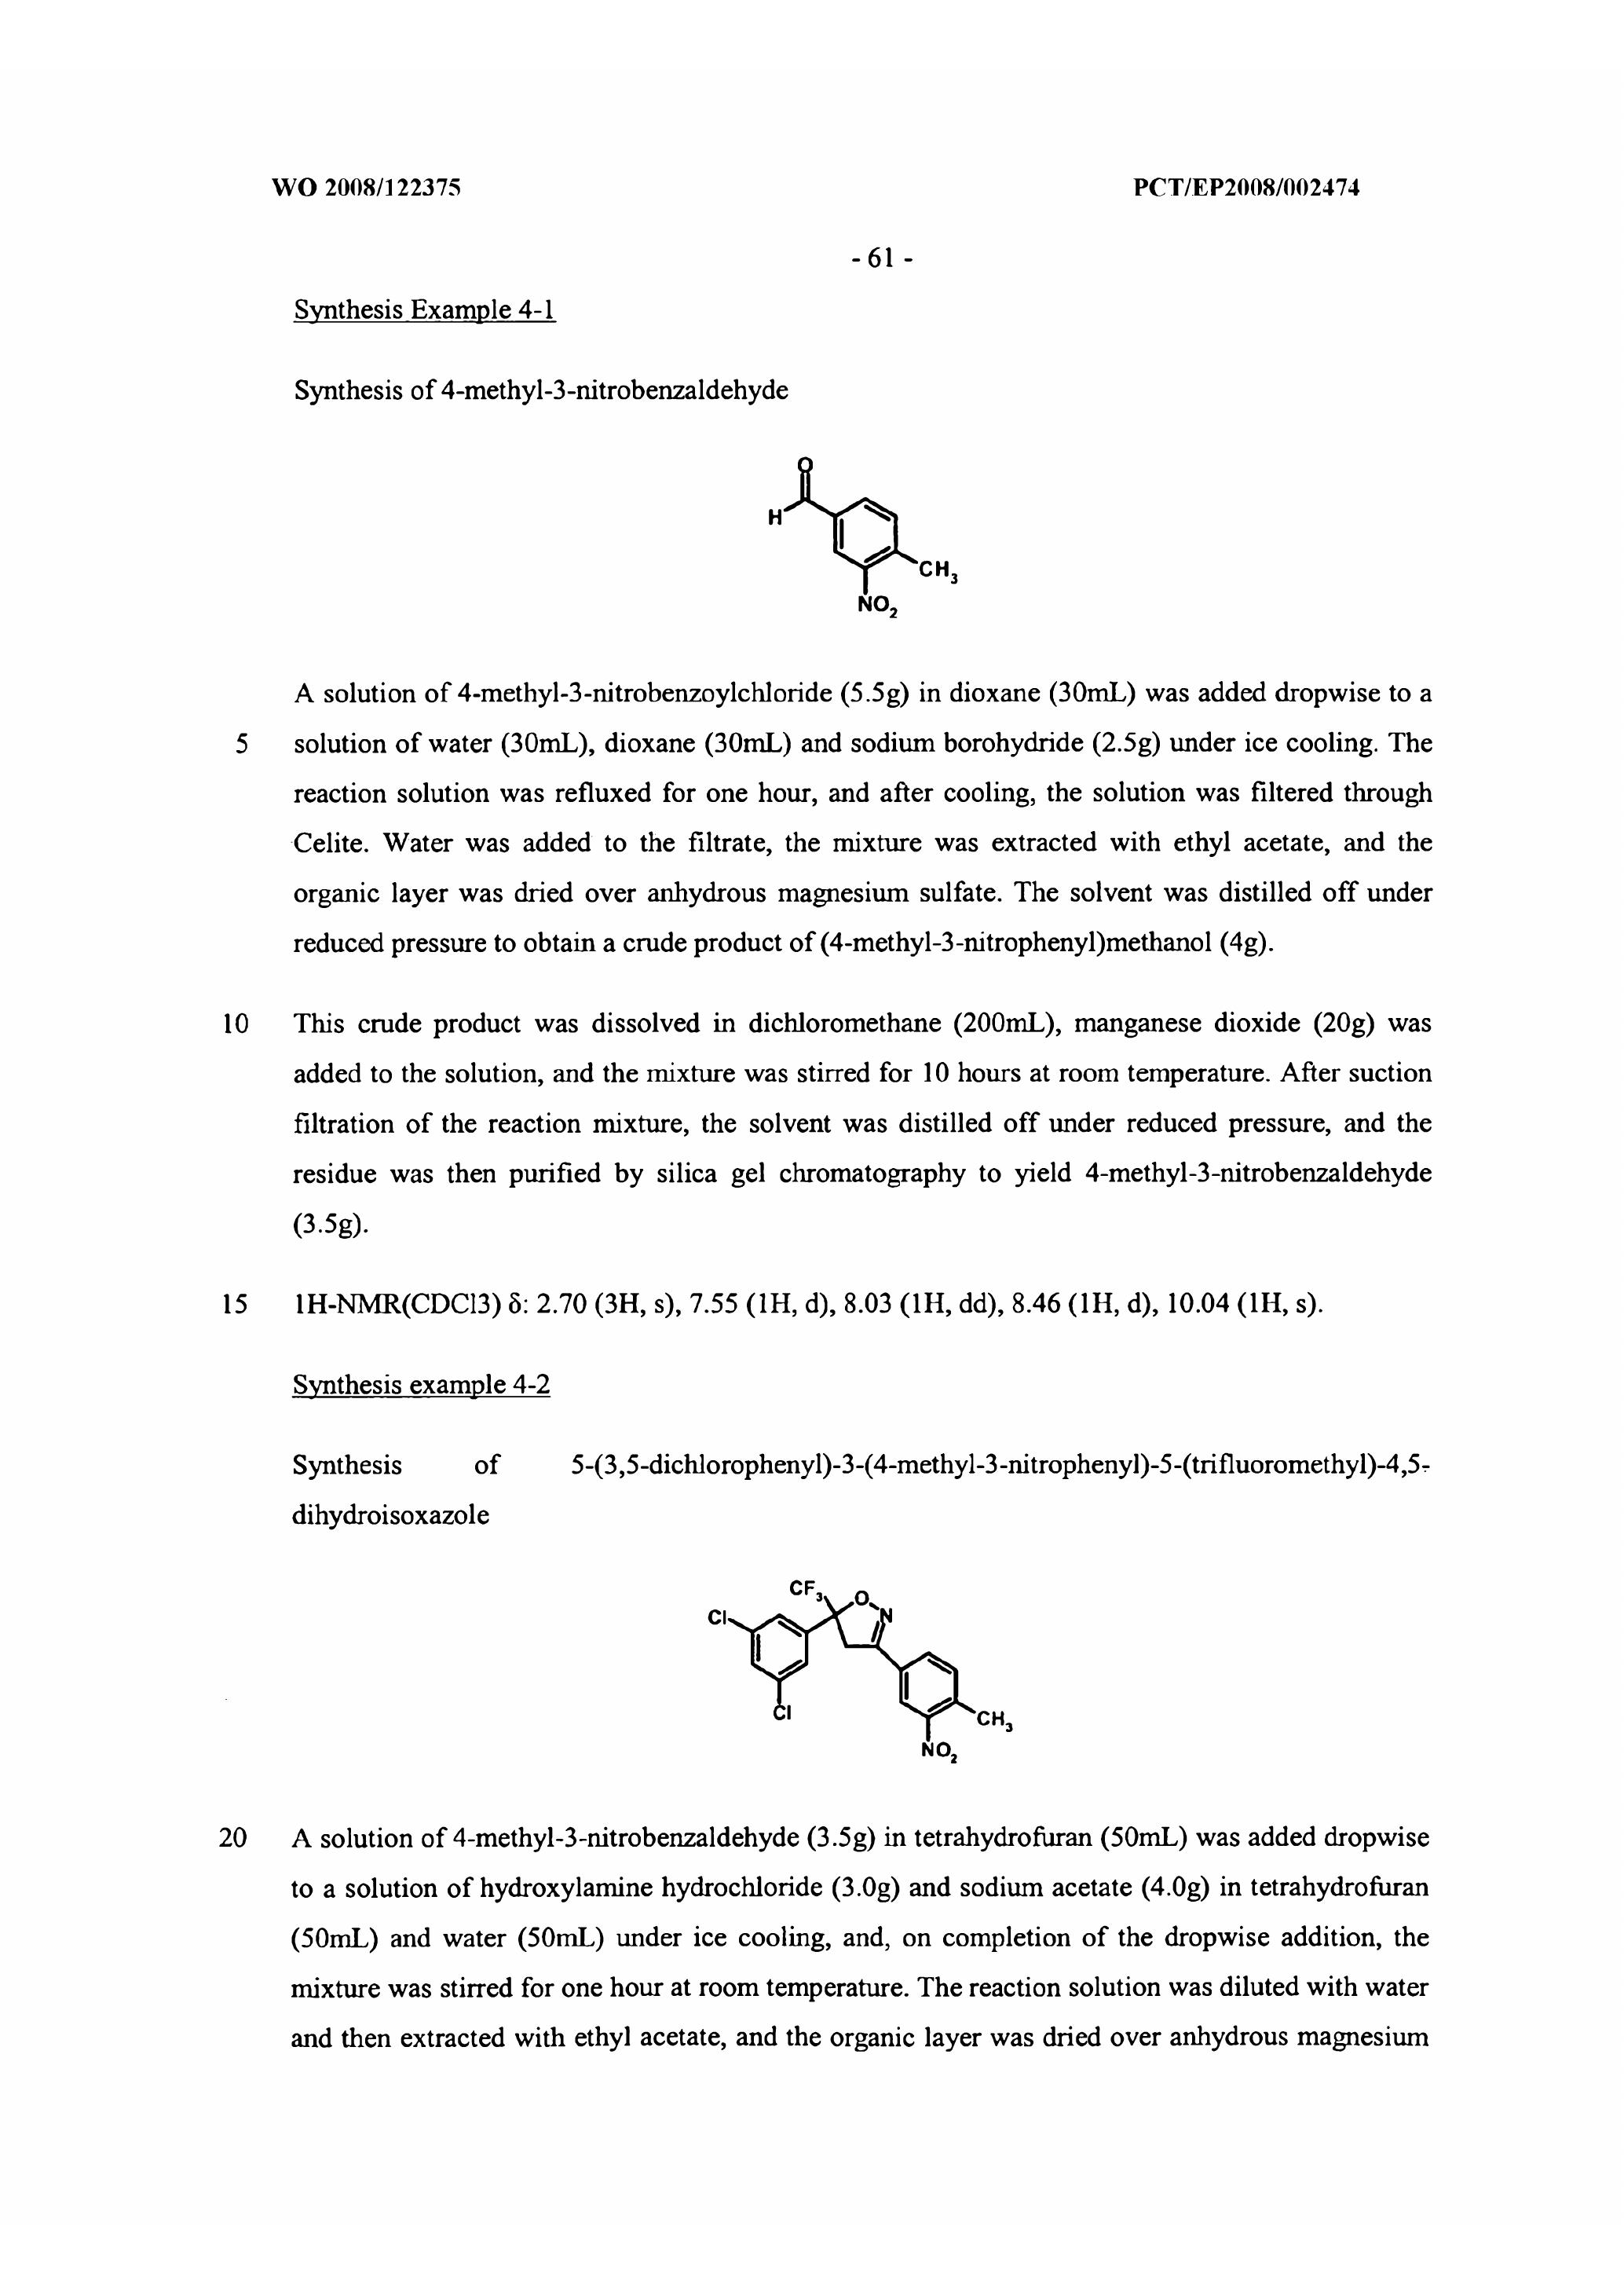intermediates: (735, 429, 1025, 649)
relevant-structures: (694, 1507, 1049, 1811)
